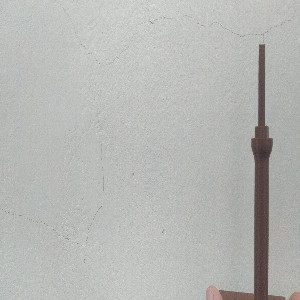obeng: (250, 43, 274, 300)
